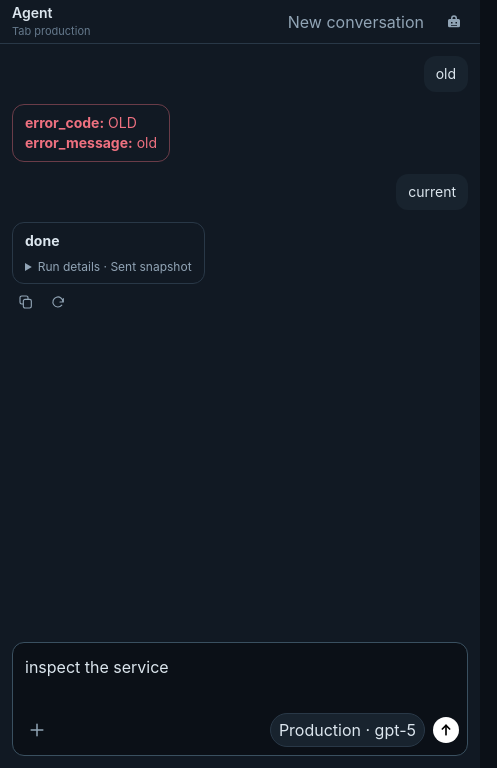
Test: AgentWorkspace › copies only the last answer Markdown and reports clipboard rejection
Click the button named "Copy".
click(26, 302)  # box [12,288,40,316]
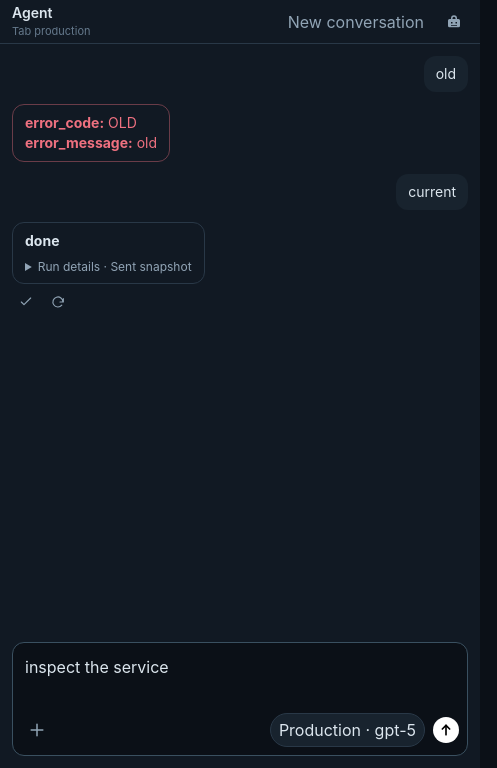
Click the button named "Copy".
click(26, 302)  # box [12,288,40,316]
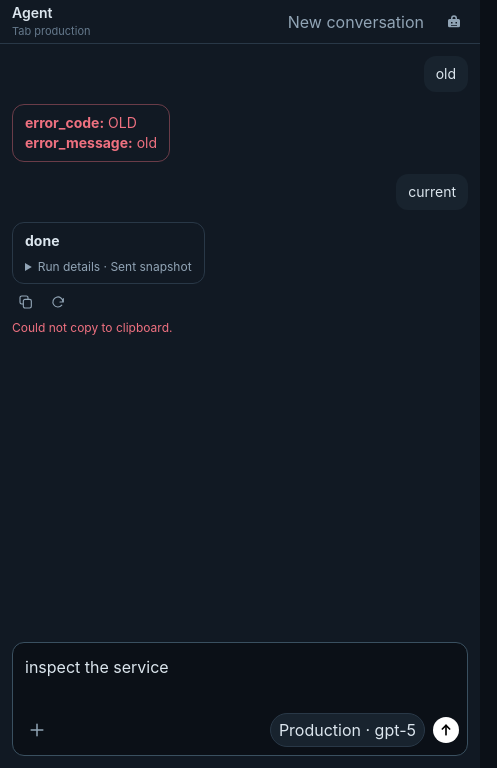
Expected: the text "Copied" is not shown
Now the text "Could not copy to clipboard." is shown, box [12,320,172,335]
